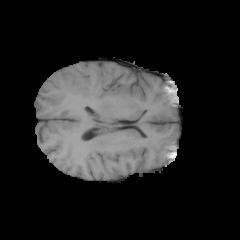glioma: (62, 68, 99, 107)
